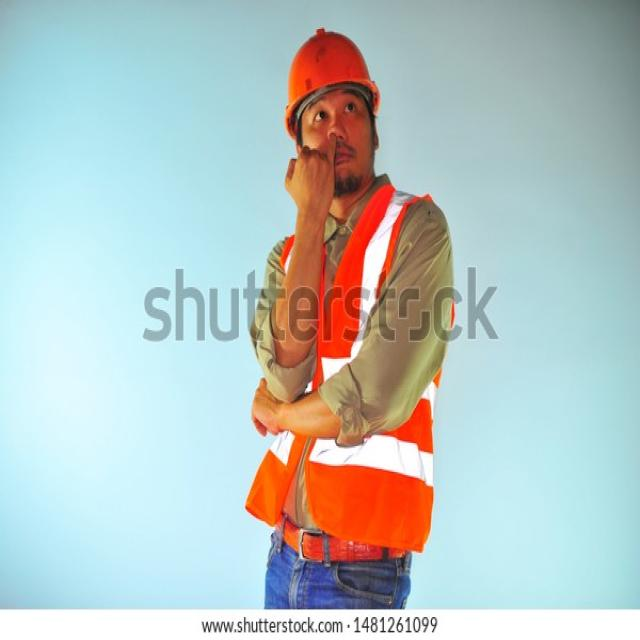helmet: (284, 23, 378, 141)
no-goggles: (296, 89, 372, 132)
vest: (239, 175, 459, 562)
